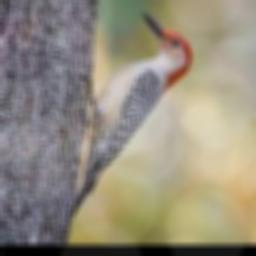Woodpecker: (70, 11, 192, 217)
